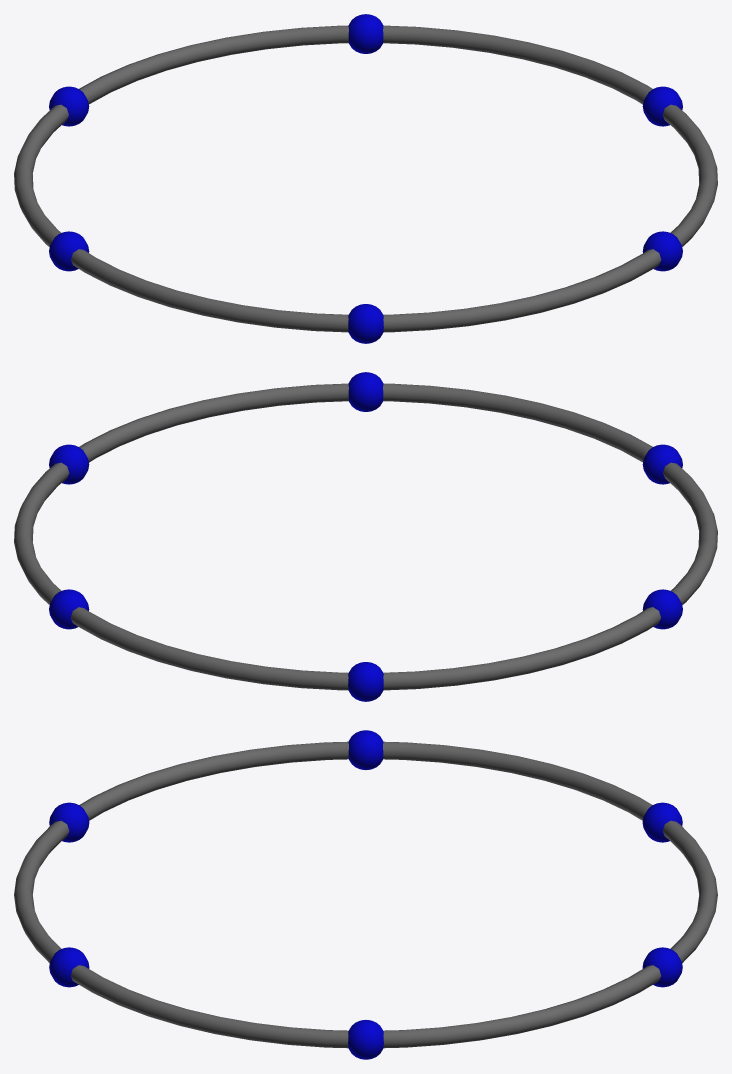
Rendered from boss_eclipse_ring2.obj.
The picture shows the model from 3 angles, top to bottom: view 1: azimuth 30°, elevation 25°; view 2: azimuth 150°, elevation 25°; view 3: azimuth 270°, elevation 25°; orthographic projection.
Parts seen in each view (by area): view 1: ring, knob; view 2: ring, knob; view 3: ring, knob.
Part boxes in pixels (bbox=[...]): ring: bbox=[14, 25, 717, 332]; knob: bbox=[49, 14, 682, 343]; ring: bbox=[14, 383, 717, 690]; knob: bbox=[49, 372, 682, 701]; ring: bbox=[14, 741, 717, 1048]; knob: bbox=[49, 730, 682, 1059].
Size of the model in its own units: 5.4 by 0.3 by 5.24.
